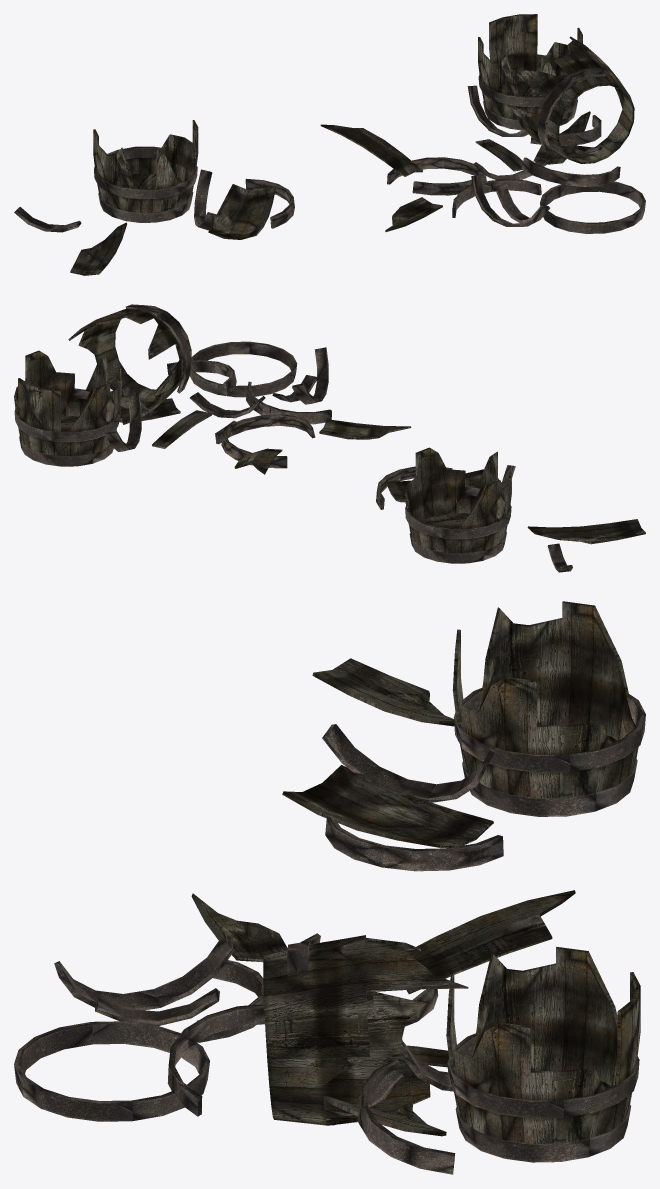
The picture shows the model from 3 angles, top to bottom: view 1: azimuth 30°, elevation 25°; view 2: azimuth 150°, elevation 25°; view 3: azimuth 270°, elevation 25°; orthographic projection. The views are drawn at different scales.
Visible parts, largest first — view 1: mesh0; view 2: mesh0; view 3: mesh0.
Boxes of the visible parts, box(x1,y1,x2,y2) form: mesh0: box(14, 14, 645, 275); mesh0: box(14, 304, 645, 572); mesh0: box(14, 601, 645, 1174).
Bounding box in the file's own units: 4.82 × 0.8372 × 2.56.
1 material, 1 textured.
